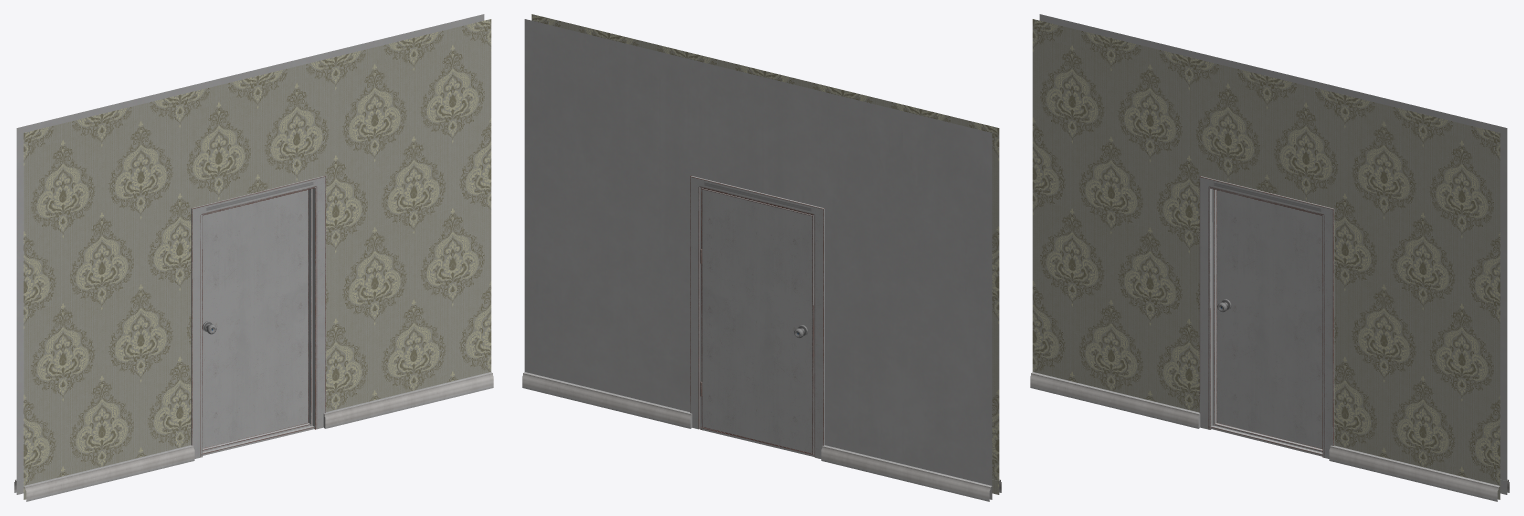
The model's file is Inner_Wall_Door_02.fbx.
The picture shows the model from 3 angles, left to right: view 1: azimuth 30°, elevation 25°; view 2: azimuth 150°, elevation 25°; view 3: azimuth 330°, elevation 25°; orthographic projection.
Visible parts, largest first — view 1: Inner_Wall_Door_02_LOD0, Inner_Door_02_LOD0; view 2: Inner_Wall_Door_02_LOD0, Inner_Door_02_LOD0; view 3: Inner_Wall_Door_02_LOD0, Inner_Door_02_LOD0.
Boxes of the visible parts, x1,y1,x2,y2 form: Inner_Wall_Door_02_LOD0: [14, 14, 493, 501]; Inner_Door_02_LOD0: [202, 190, 308, 448]; Inner_Wall_Door_02_LOD0: [522, 14, 1001, 501]; Inner_Door_02_LOD0: [700, 188, 813, 453]; Inner_Wall_Door_02_LOD0: [1030, 14, 1509, 501]; Inner_Door_02_LOD0: [1217, 190, 1322, 448].
Size of what is drawn, in the model's own units: 400 by 300 by 22.77.
